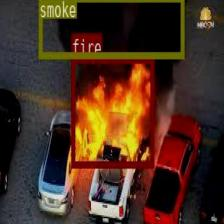fire: (71, 56, 153, 167)
smoke: (37, 0, 183, 57)
